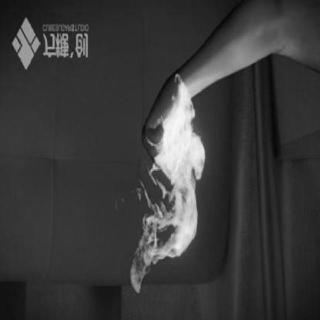Fire: (120, 69, 206, 298)
